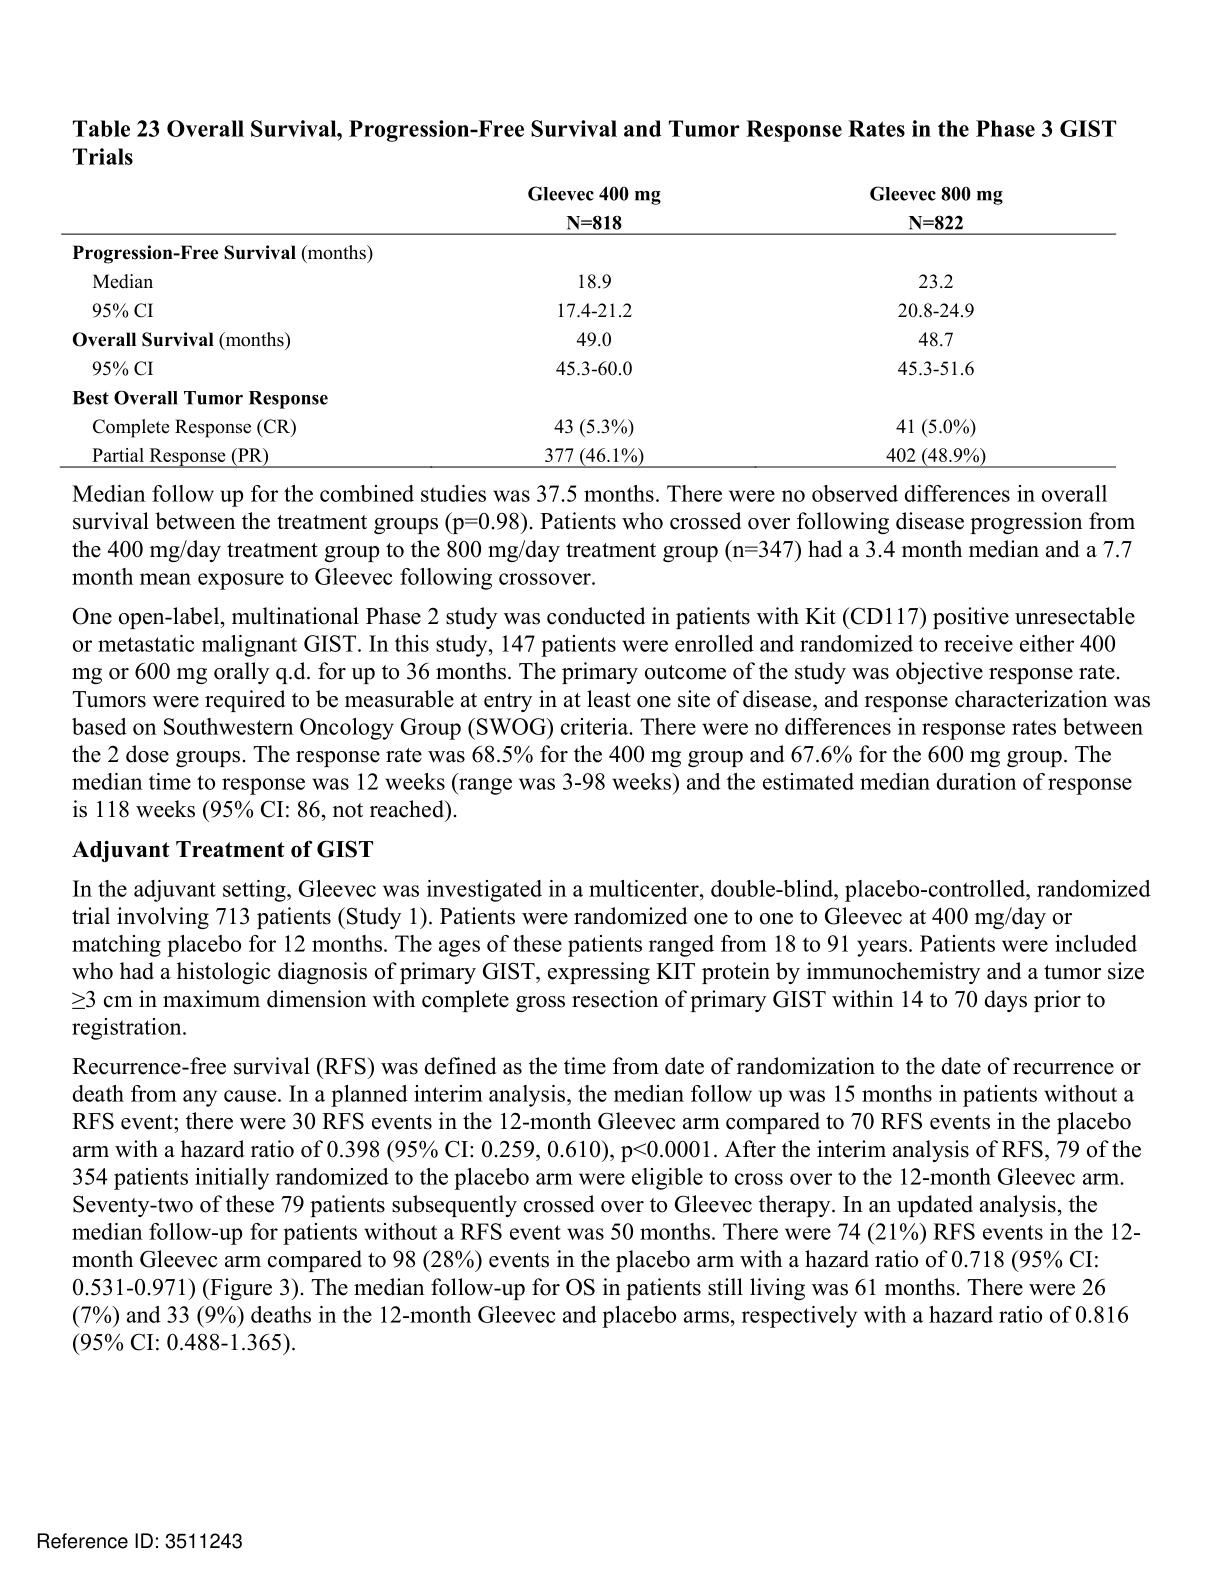partial_lined: (59, 183, 1117, 468)
